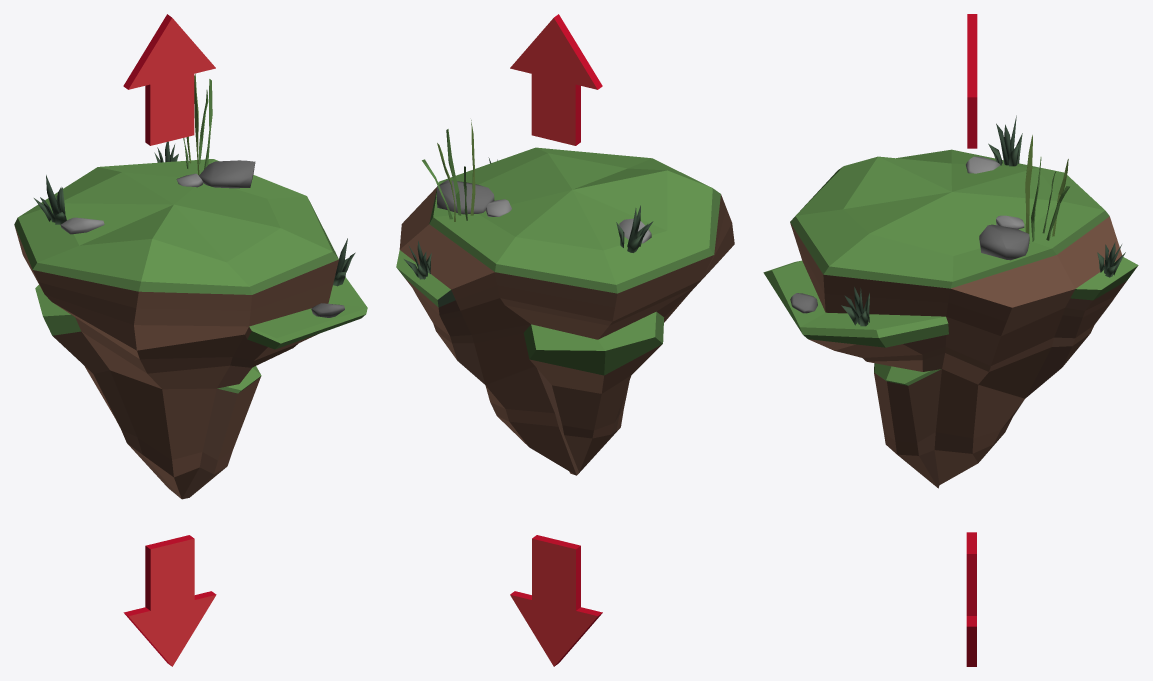
The model's file is Vertical_Platform_Pirates.glb.
3 renders of one model, left to right at view 1: azimuth 30°, elevation 25°; view 2: azimuth 150°, elevation 25°; view 3: azimuth 270°, elevation 25°, orthographic.
Visible parts, largest first — view 1: PiratePlatform_01, Plane, Plane.001; view 2: PiratePlatform_01, Plane.001, Plane; view 3: PiratePlatform_01, Plane, Plane.001.
Boxes of the visible parts, x1=… form: PiratePlatform_01: x1=14, y1=74, x2=367, y2=499; Plane: x1=123, y1=535, x2=216, y2=666; Plane.001: x1=123, y1=14, x2=215, y2=145; PiratePlatform_01: x1=396, y1=120, x2=734, y2=475; Plane.001: x1=510, y1=14, x2=602, y2=145; Plane: x1=510, y1=535, x2=602, y2=666; PiratePlatform_01: x1=763, y1=115, x2=1138, y2=488; Plane: x1=966, y1=532, x2=976, y2=666; Plane.001: x1=967, y1=14, x2=977, y2=148.
Size of the model in its own units: 2.22 by 4.88 by 2.54.
Materials: 2 (2 with a texture image).
